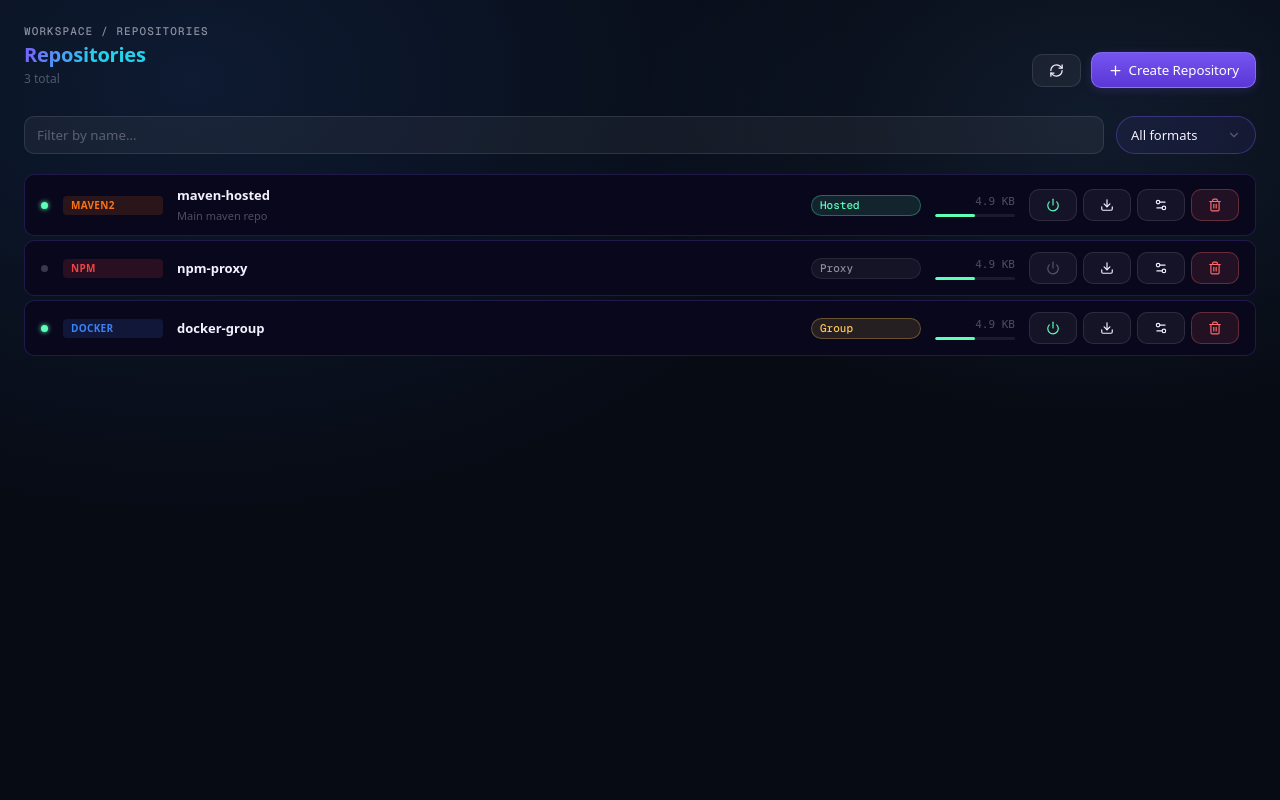
Test: RepositoriesPage › errors when a group has no members selected
Expected: the text "maven-hosted" is shown, top-left (177, 186), bottom-right (270, 204)
Click the button "Create Repository": (1173, 70) top-left (1091, 52), bottom-right (1256, 88)
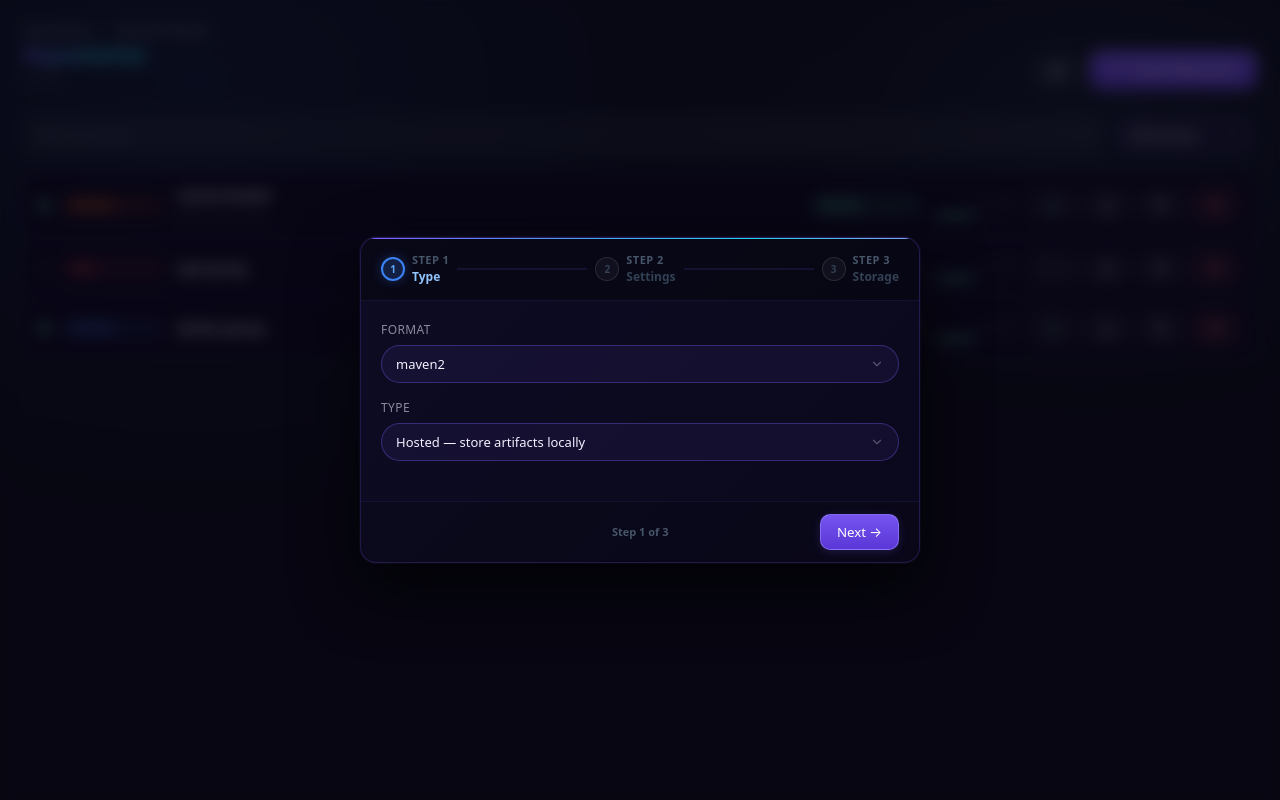
Result: the text "Step 1 of 3" is shown at top-left (612, 524), bottom-right (668, 540)
Click the button "Hosted — store artifacts locally": (491, 442) top-left (381, 423), bottom-right (899, 461)
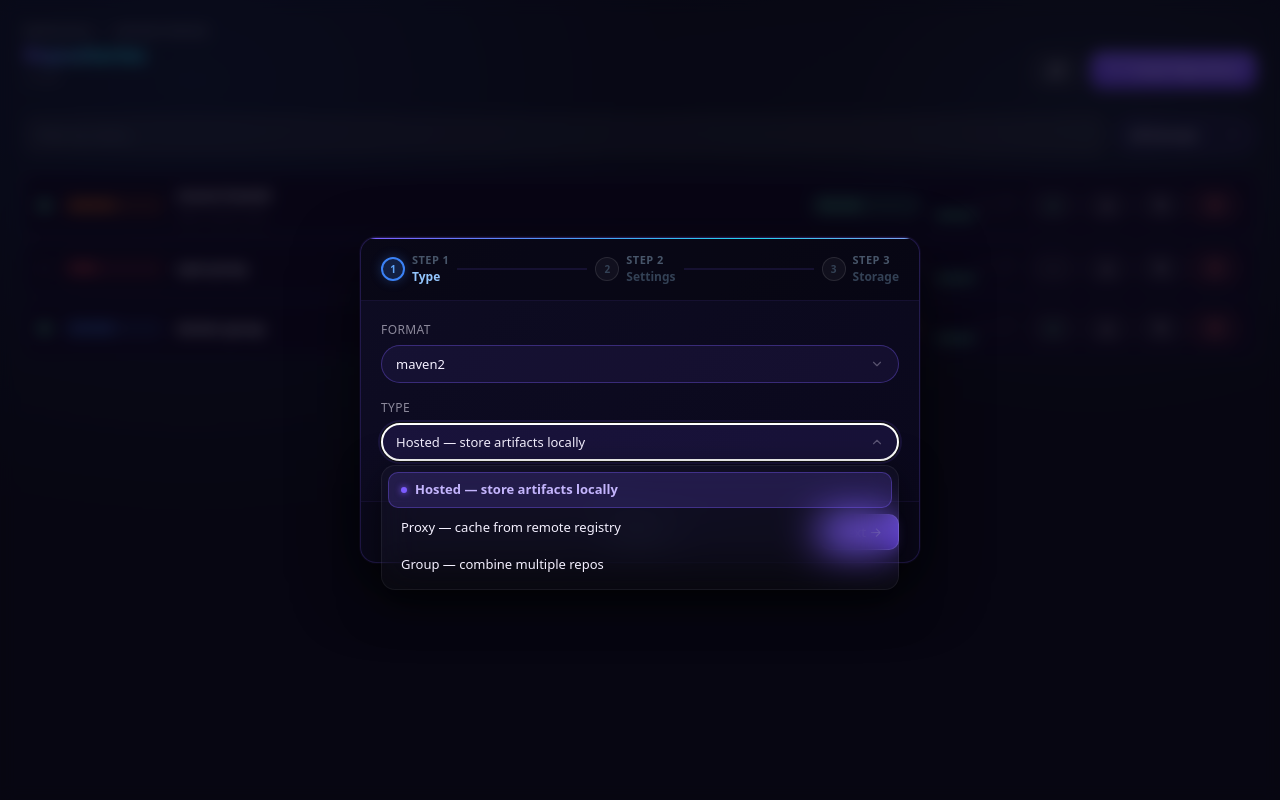
Click the text "Group — combine multiple repos": (502, 564) top-left (401, 555), bottom-right (604, 573)
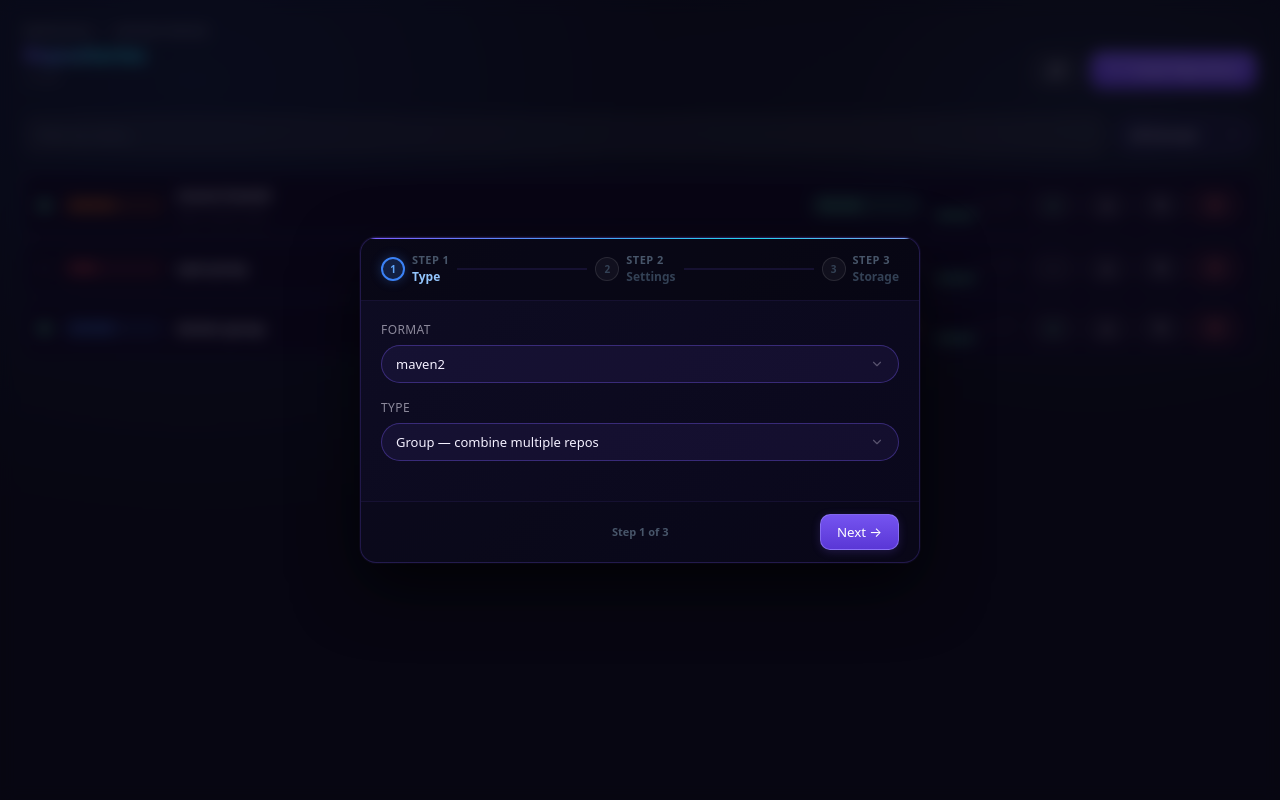
Click the button "Next →": (860, 532) top-left (820, 514), bottom-right (899, 550)
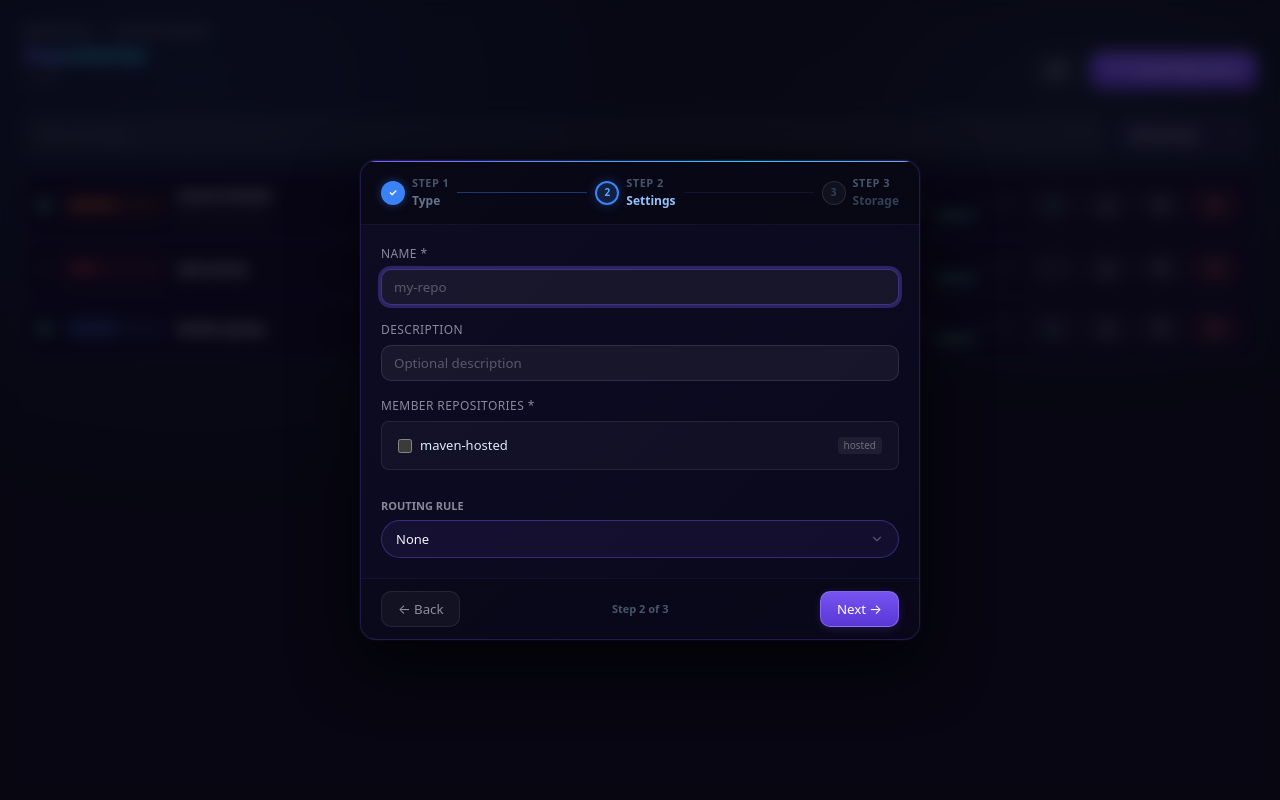
Result: the text "Step 2 of 3" is shown at top-left (612, 600), bottom-right (668, 617)
In the field with placeholder "my-repo": (640, 287) top-left (381, 269), bottom-right (899, 305), type "my-group"
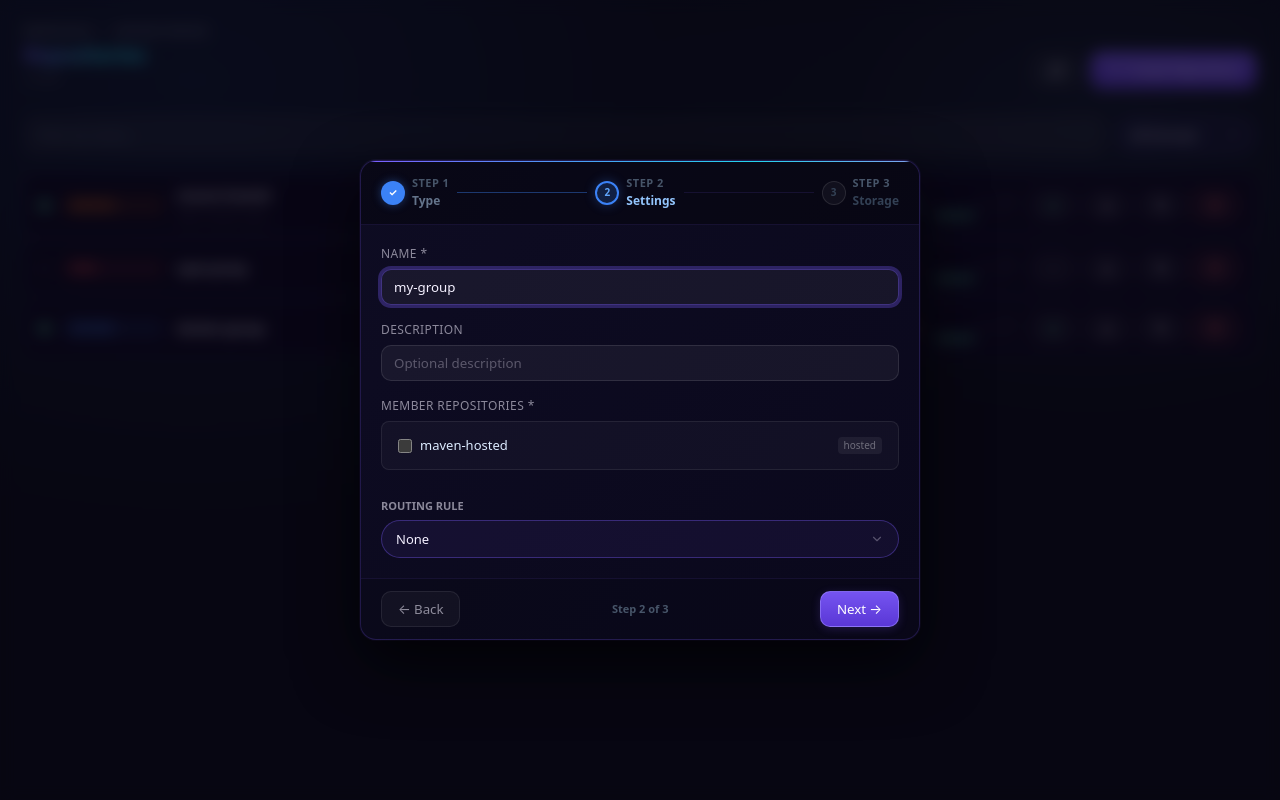
Click the button "Next →": (860, 609) top-left (820, 591), bottom-right (899, 627)
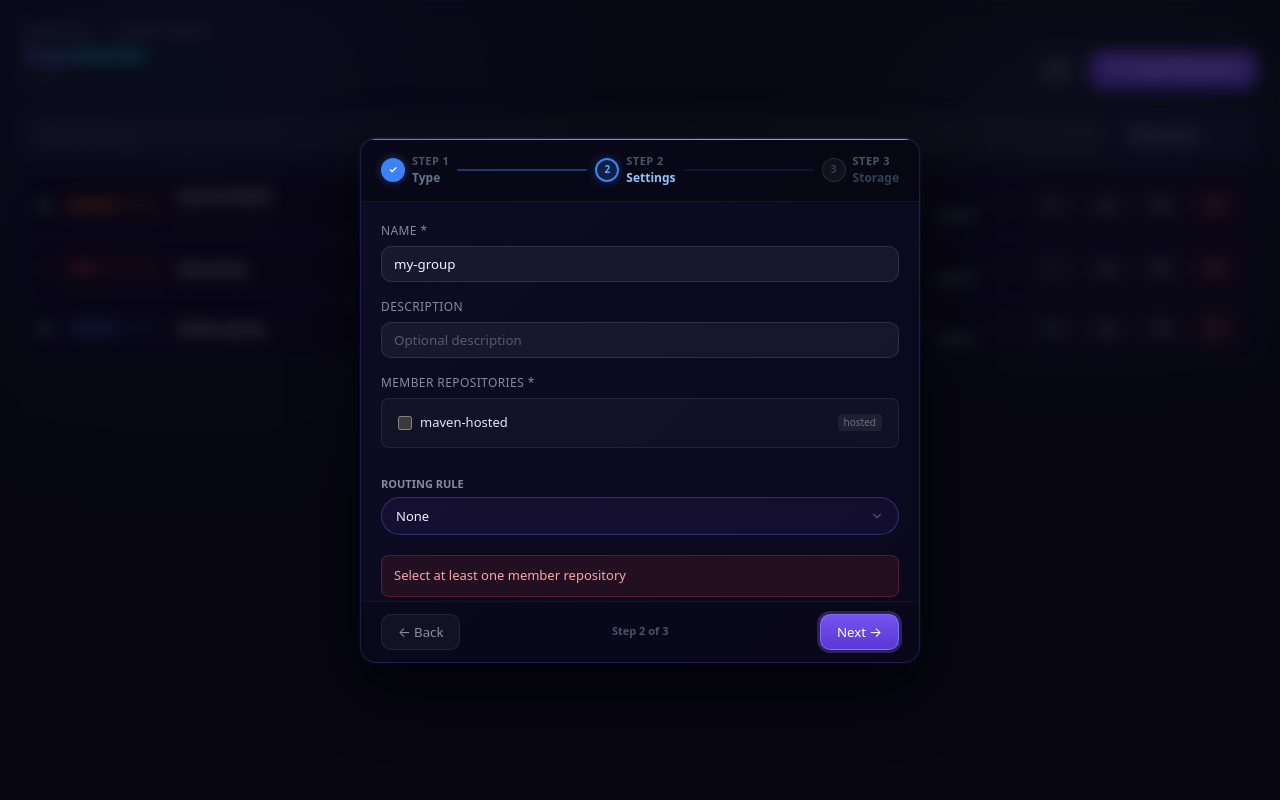
Result: the text "Select at least one member repository" is shown at top-left (381, 555), bottom-right (899, 596)
